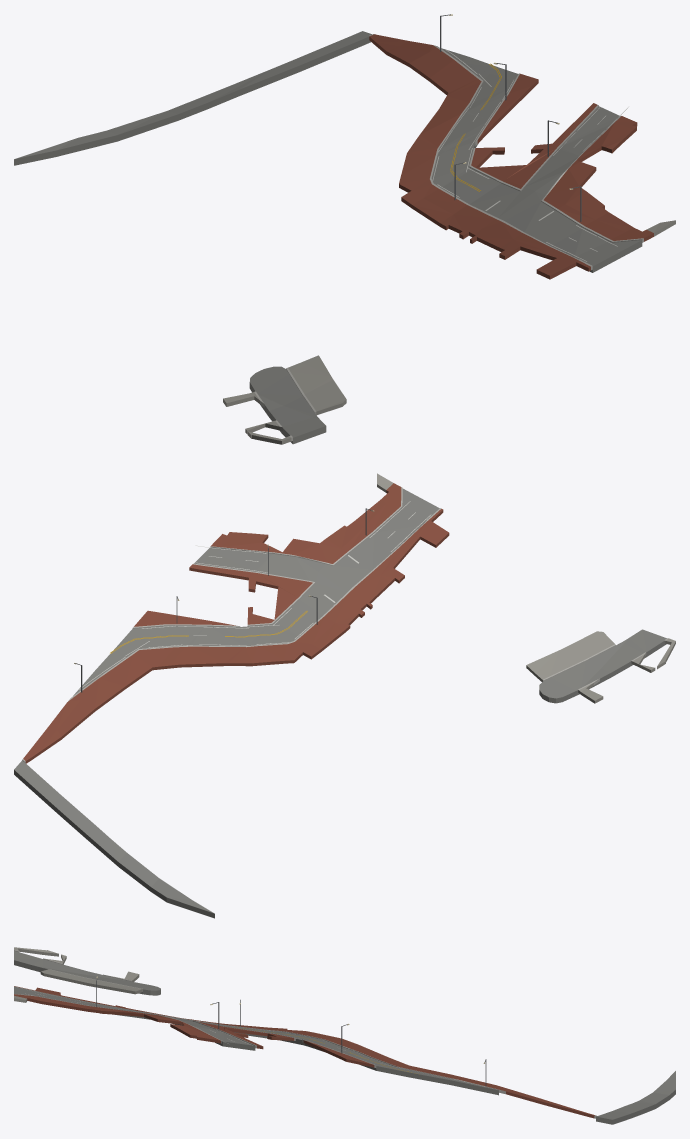
3 renders of one model, top to bottom at view 1: azimuth 30°, elevation 25°; view 2: azimuth 150°, elevation 25°; view 3: azimuth 270°, elevation 25°, orthographic. The views are drawn at different scales.
Bounding box in the file's own units: 95.94 × 39.49 × 146.
